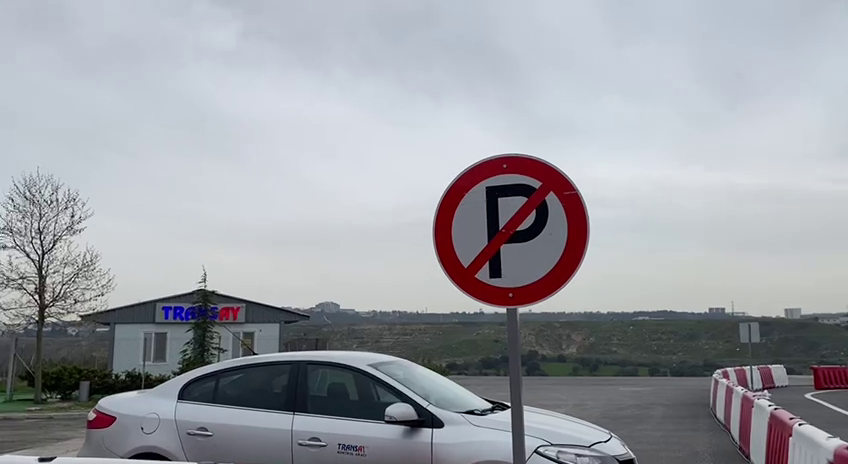noparking: (426, 146, 594, 313)
